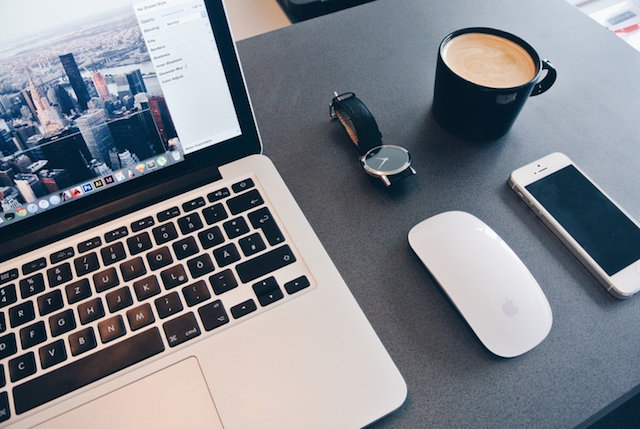computer: (1, 1, 354, 428)
phone: (506, 151, 640, 306)
watch: (319, 81, 418, 196)
